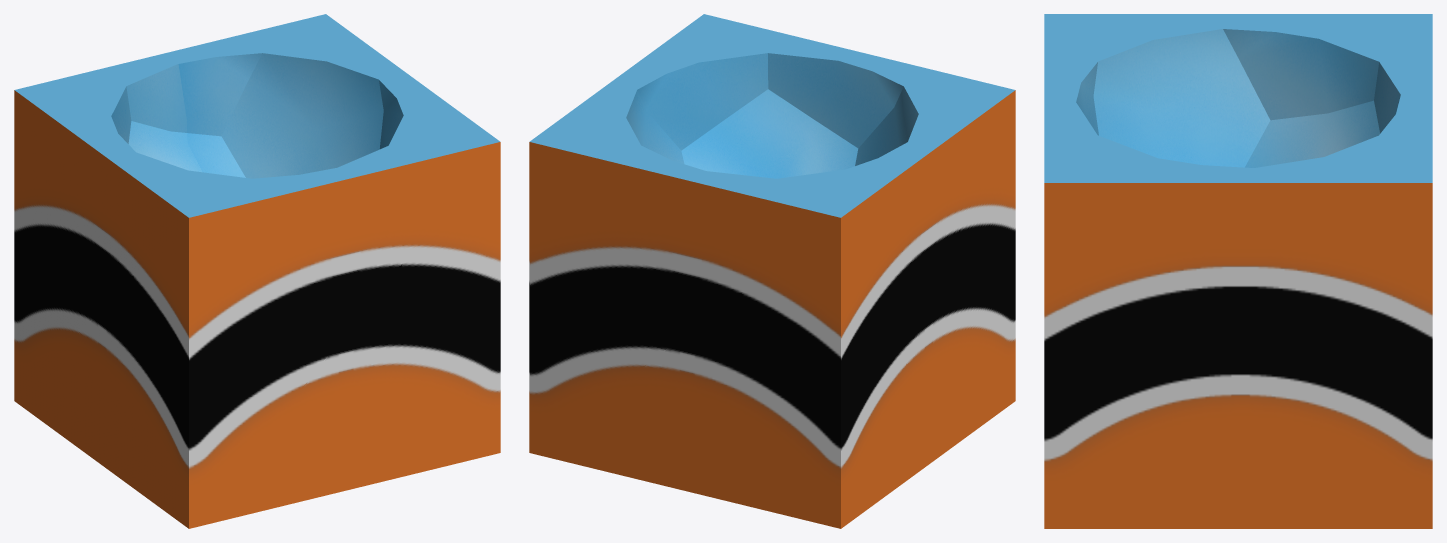
File: Chalk.fbx
3 renders of one model, left to right at view 1: azimuth 30°, elevation 25°; view 2: azimuth 150°, elevation 25°; view 3: azimuth 270°, elevation 25°, orthographic. The views are drawn at different scales.
Parts seen in each view (by area): view 1: pCube2; view 2: pCube2; view 3: pCube2.
Boxes of the visible parts, x1=… form: pCube2: x1=14, y1=14, x2=500, y2=528; pCube2: x1=529, y1=14, x2=1015, y2=528; pCube2: x1=1044, y1=14, x2=1432, y2=528.
Bounding box in the file's own units: 1.92 × 1.83 × 1.87.
